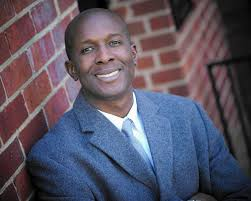no-mask: (60, 6, 144, 105)
